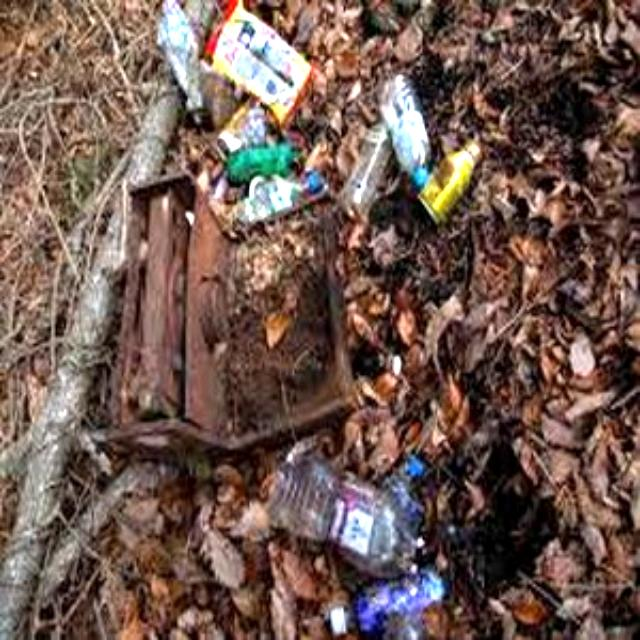Plastic: (272, 461, 400, 565), (326, 571, 444, 633), (382, 70, 438, 182), (152, 0, 201, 108), (234, 172, 318, 228), (336, 120, 390, 206)
